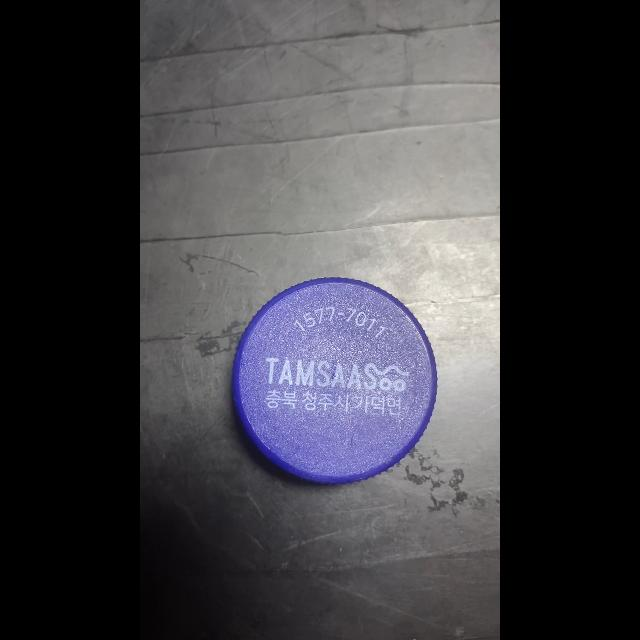plastic_bottle_cap: (226, 272, 444, 492)
